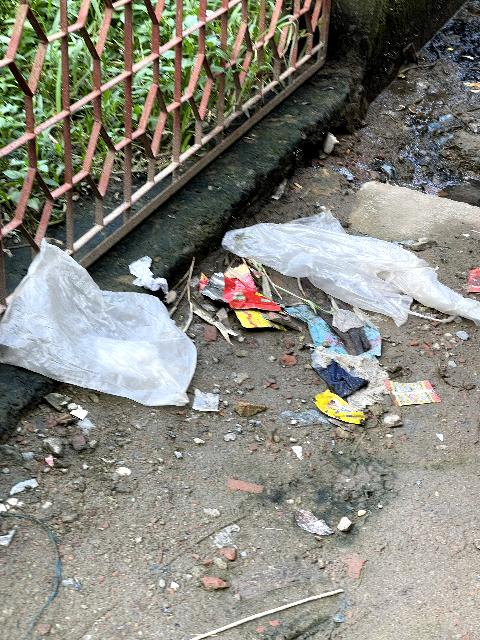polythene: (20, 244, 480, 428)
